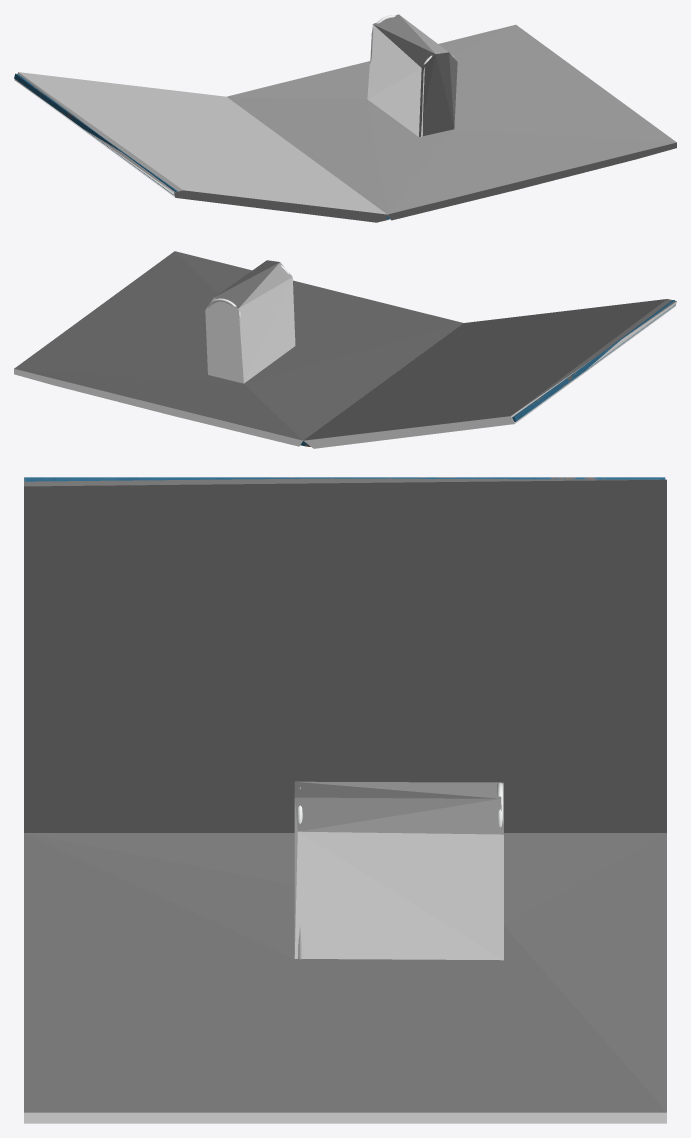
File: SM_Folder_01_Open.fbx
3 renders of one model, top to bottom at view 1: azimuth 30°, elevation 25°; view 2: azimuth 150°, elevation 25°; view 3: azimuth 270°, elevation 25°, orthographic. The views are drawn at different scales.
Parts seen in each view (by area): view 1: SM_Folder_01_Open_ConvexHulls, SM_Folder_01_Open; view 2: SM_Folder_01_Open_ConvexHulls, SM_Folder_01_Open; view 3: SM_Folder_01_Open_ConvexHulls, SM_Folder_01_Open.
Boxes of the visible parts, x1,y1,x2,y2 form: SM_Folder_01_Open_ConvexHulls: (14, 14, 676, 222); SM_Folder_01_Open: (14, 15, 453, 219); SM_Folder_01_Open_ConvexHulls: (14, 251, 676, 448); SM_Folder_01_Open: (208, 265, 675, 446); SM_Folder_01_Open_ConvexHulls: (24, 477, 666, 1123); SM_Folder_01_Open: (24, 477, 665, 959).
Size of the model in its own units: 81.45 by 45.15 by 13.83.
2 materials, 1 textured.
